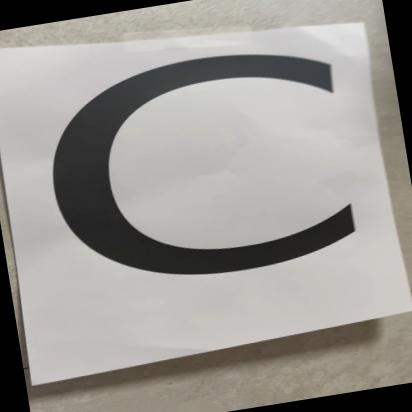seat: (0, 0, 411, 376)
